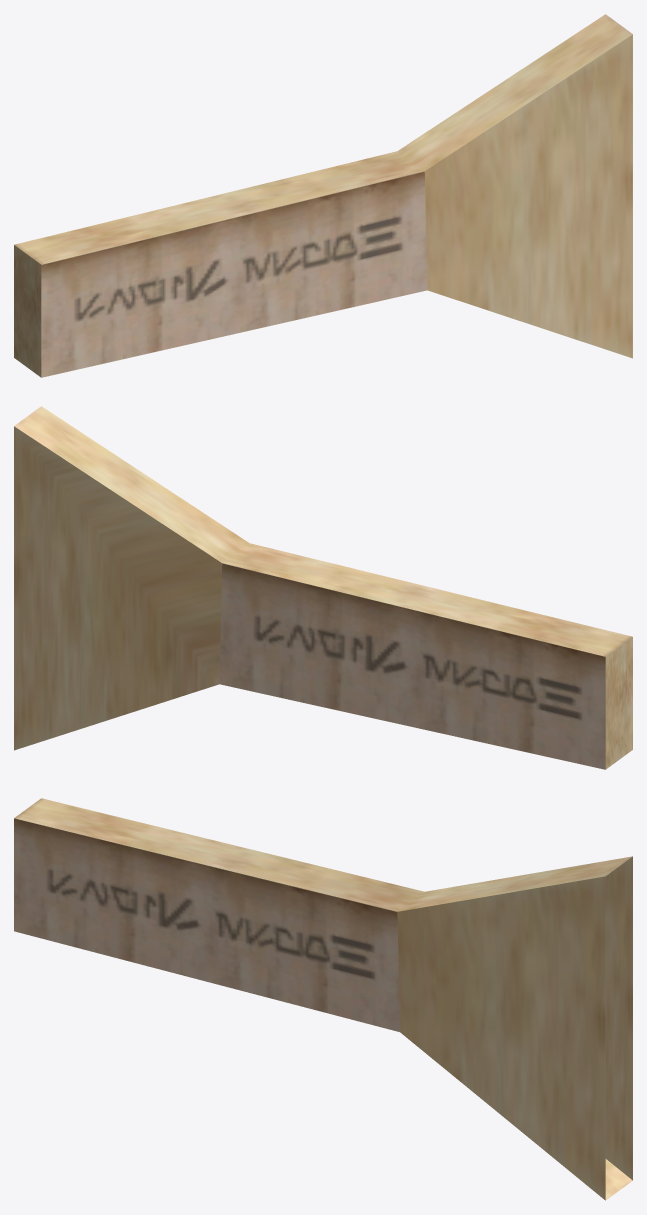
The model's file is thm_tato_imprv_street_sign_wall_s01_l2.fbx.
3 renders of one model, top to bottom at view 1: azimuth 30°, elevation 25°; view 2: azimuth 150°, elevation 25°; view 3: azimuth 330°, elevation 25°, orthographic.
Visible parts, largest first — view 1: mesh_node; view 2: mesh_node; view 3: mesh_node.
Part boxes in pixels (<box>): mesh_node: <box>14,14,632,377</box>; mesh_node: <box>14,406,632,769</box>; mesh_node: <box>14,798,632,1200</box>.
Size of the model in its own units: 2 by 1.05 by 0.1605.
